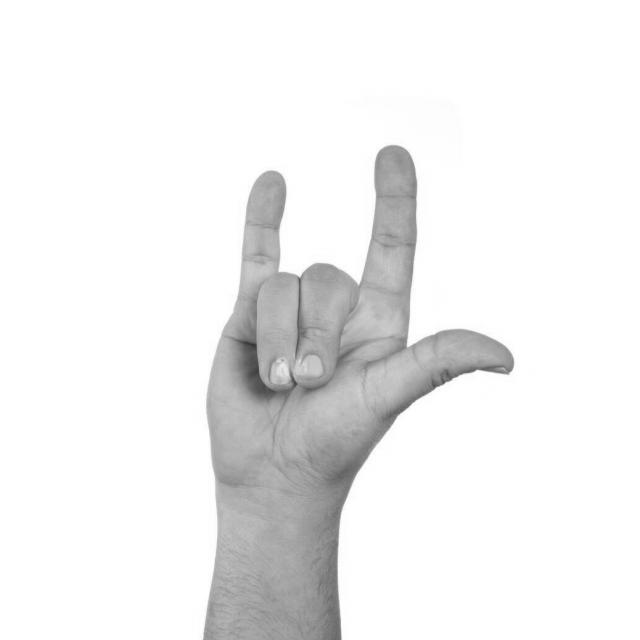i love you: (196, 134, 520, 517)
